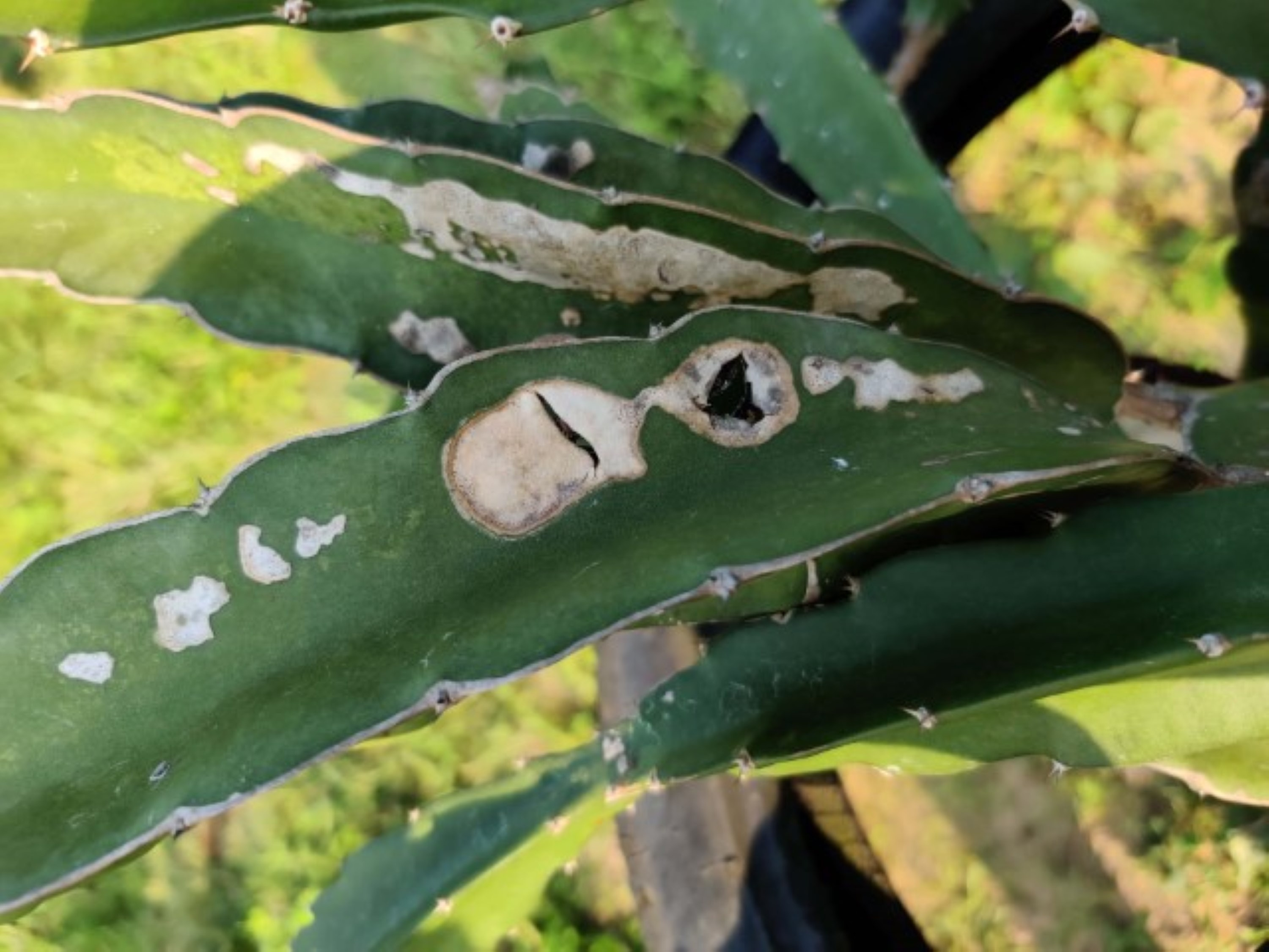stemcanker: (44, 83, 1015, 698)
